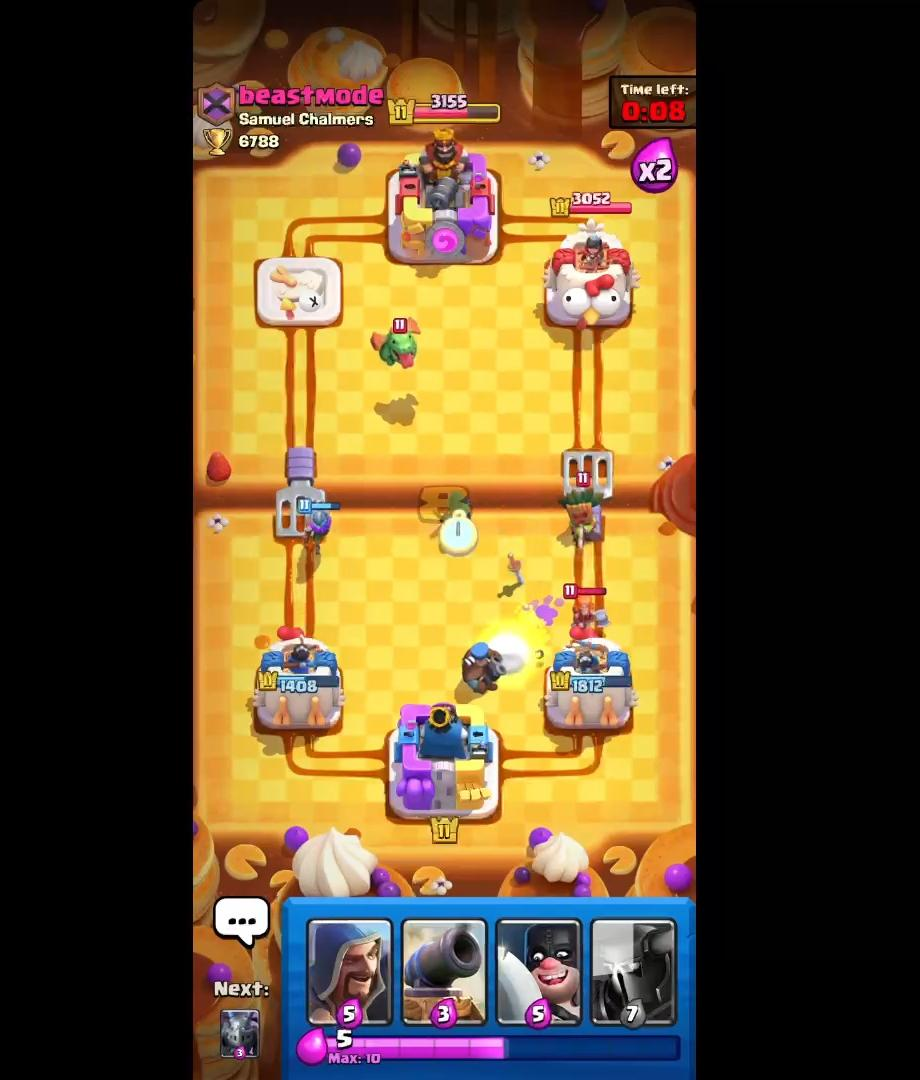Baby Dragon: (359, 314, 428, 379)
Dart Goblin: (554, 473, 613, 543)
Valkyrie: (563, 584, 608, 635)
